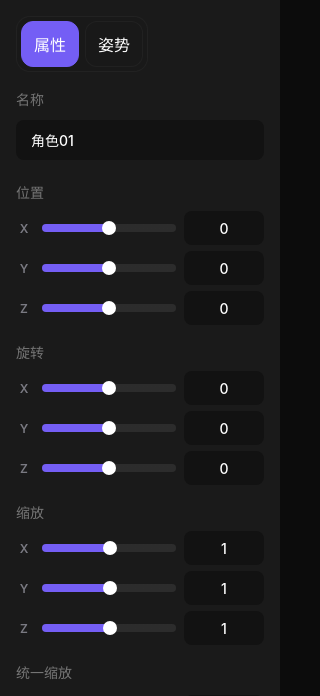
Test: adjusts role position through the per-axis slider rows
Set the slider named "角色位置 X 滑杆" to "2" at (111, 228), box [42, 221, 176, 235]
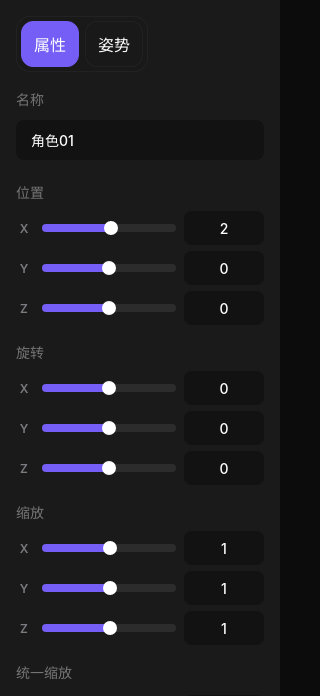
Result: the number field named "角色位置 X" holds "2" at [184, 211, 264, 245]
